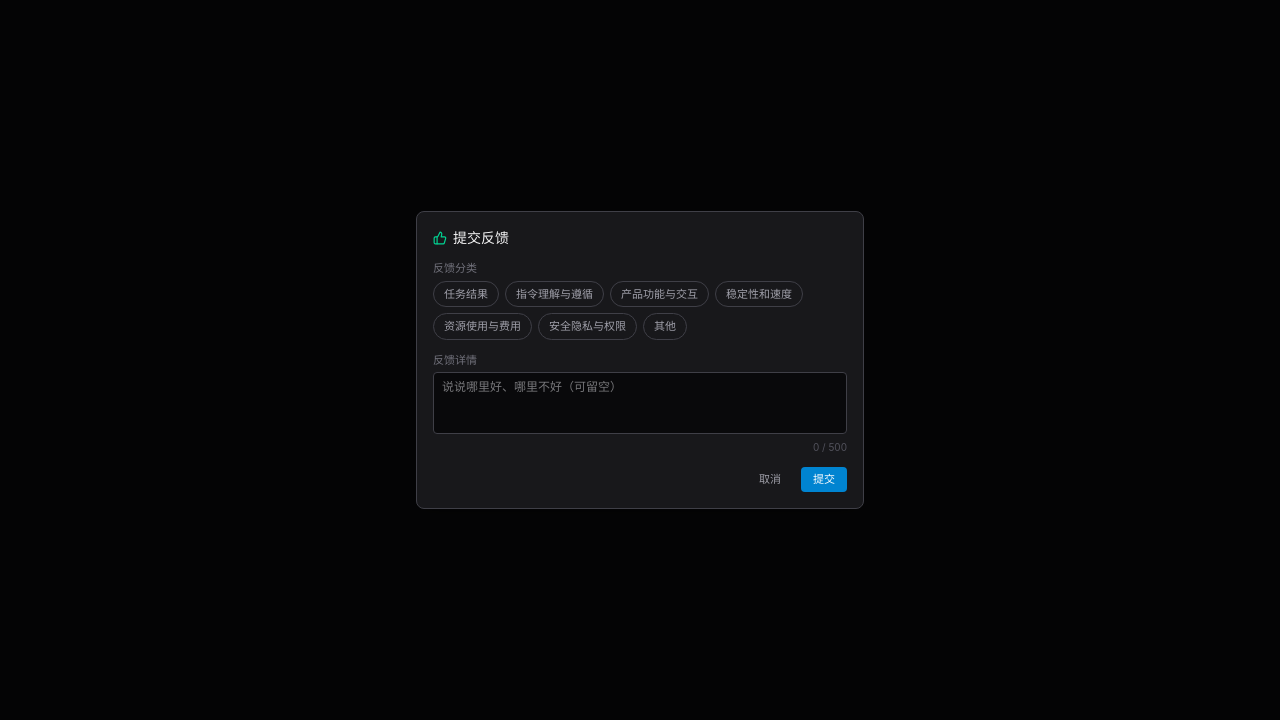
it: MessageFeedbackDialog 提交 › 反馈已在别处改动时映射成 conflict 文案
Click the button "提交" at [824, 480], box [801,467,847,492]
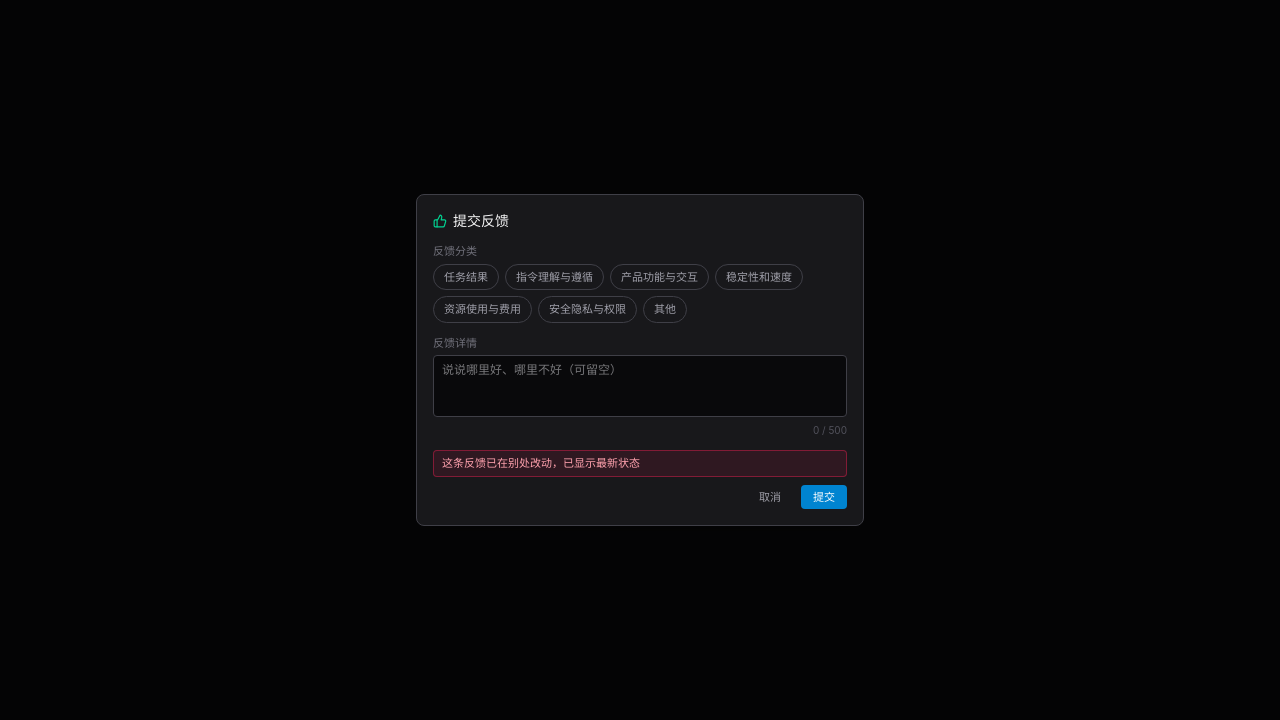
Result: the message reads "这条反馈已在别处改动，已显示最新状态" at [442,456,640,470]
